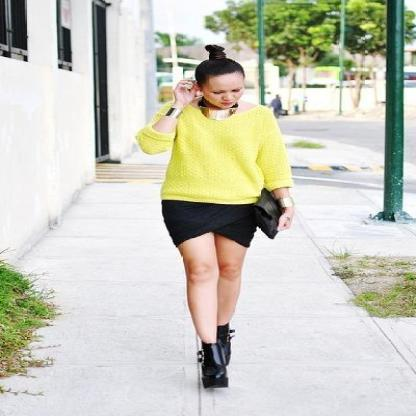bag: (253, 186, 290, 238)
jacket: (136, 108, 298, 204)
shoe: (194, 323, 234, 388)
skirt: (161, 200, 263, 240)
